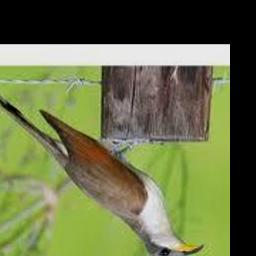Cuckoo: (0, 83, 203, 256)
